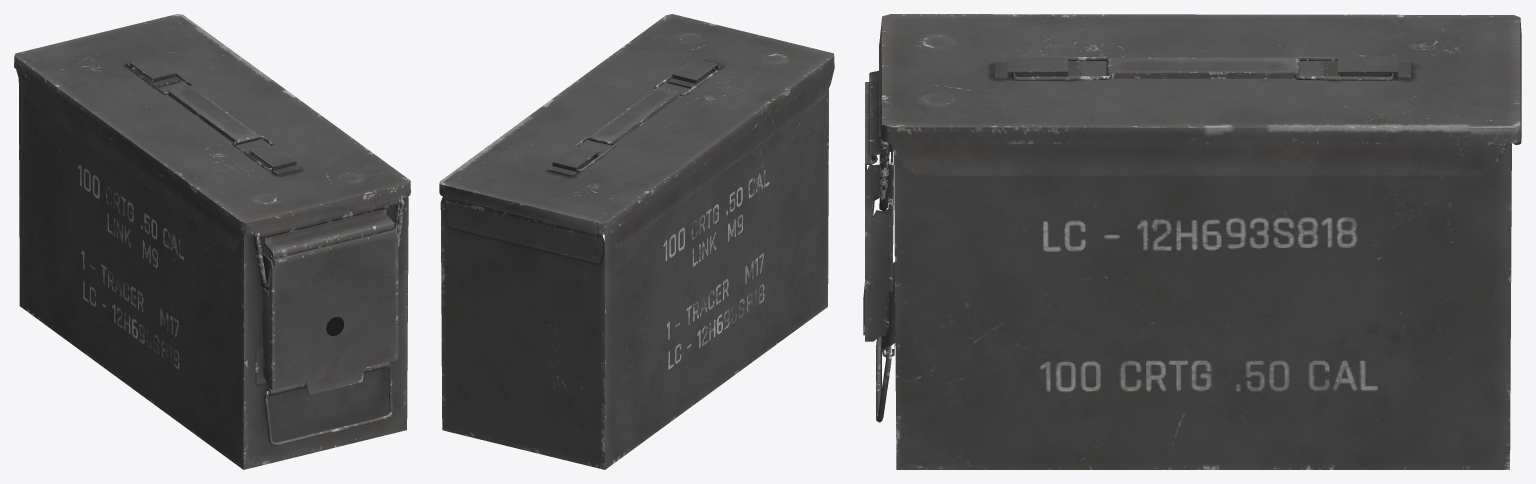
The model's file is SM_AmmunitionBox_01a.glb.
The picture shows the model from 3 angles, left to right: view 1: azimuth 30°, elevation 25°; view 2: azimuth 150°, elevation 25°; view 3: azimuth 270°, elevation 25°; orthographic projection. The views are drawn at different scales.
Visible parts, largest first — view 1: SM_AmmunitionBox_01a; view 2: SM_AmmunitionBox_01a; view 3: SM_AmmunitionBox_01a.
Part boxes in pixels (x1=…): SM_AmmunitionBox_01a: x1=14, y1=14, x2=410, y2=469; SM_AmmunitionBox_01a: x1=439, y1=14, x2=834, y2=469; SM_AmmunitionBox_01a: x1=863, y1=14, x2=1521, y2=469.
Size of the model in its own units: 0.2176 by 0.3137 by 0.5328.
Materials: 1 (1 with a texture image).
